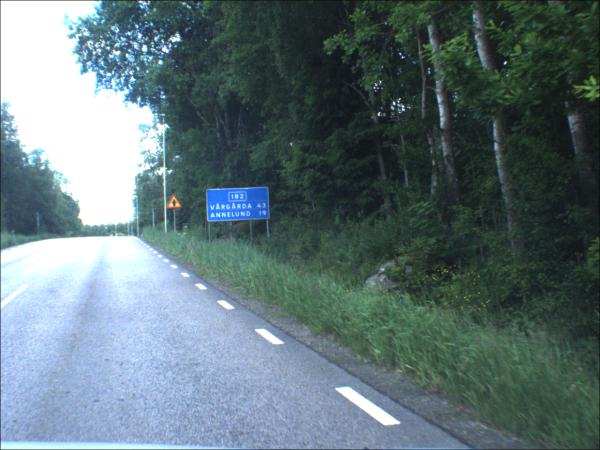WARNING: (167, 194, 184, 210)
